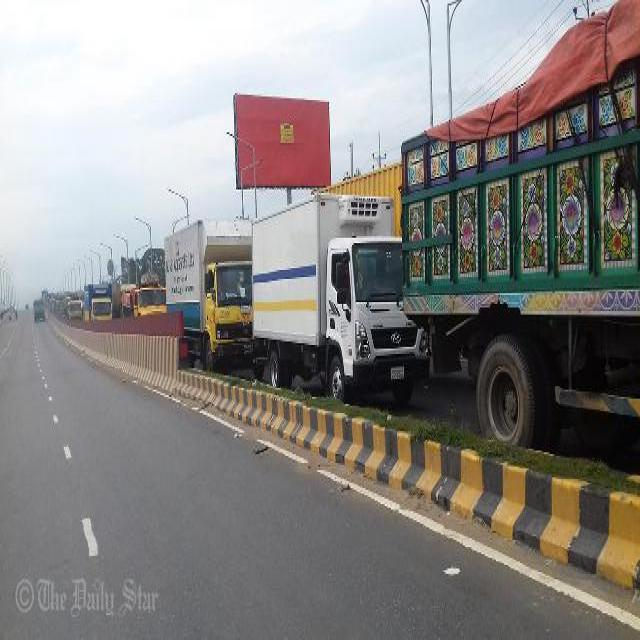bike: (9, 312, 11, 319), (16, 311, 18, 317)
vehicle: (401, 51, 640, 448), (252, 188, 430, 400), (165, 216, 266, 377), (123, 284, 168, 315), (84, 281, 112, 318), (66, 296, 82, 317), (34, 298, 46, 319)
